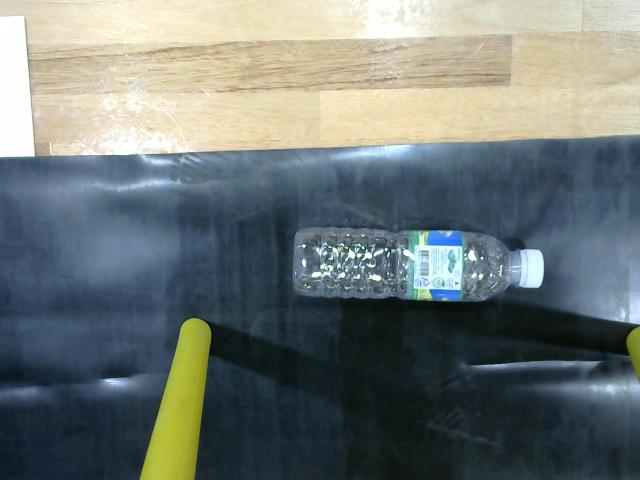bottle: (284, 223, 548, 307)
